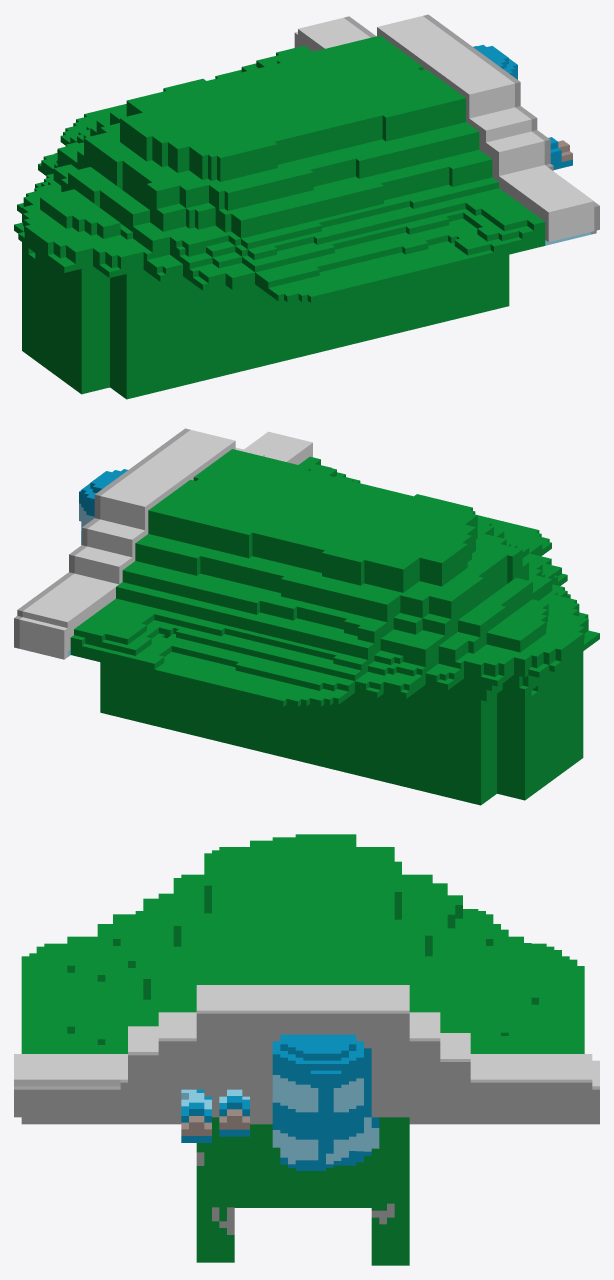
File: goodnight-moon-7-asleep1.obj
3 renders of one model, top to bottom at view 1: azimuth 30°, elevation 25°; view 2: azimuth 150°, elevation 25°; view 3: azimuth 270°, elevation 25°, orthographic. The views are drawn at different scales.
Parts seen in each view (by area): view 1: asleep1; view 2: asleep1; view 3: asleep1.
Boxes of the visible parts, box(x1,y1,x2,y2) form: asleep1: box(14, 14, 599, 399); asleep1: box(14, 428, 599, 805); asleep1: box(14, 834, 599, 1265).
Size of the model in its own units: 8.5 by 3.7 by 7.7.
1 material, 1 textured.
